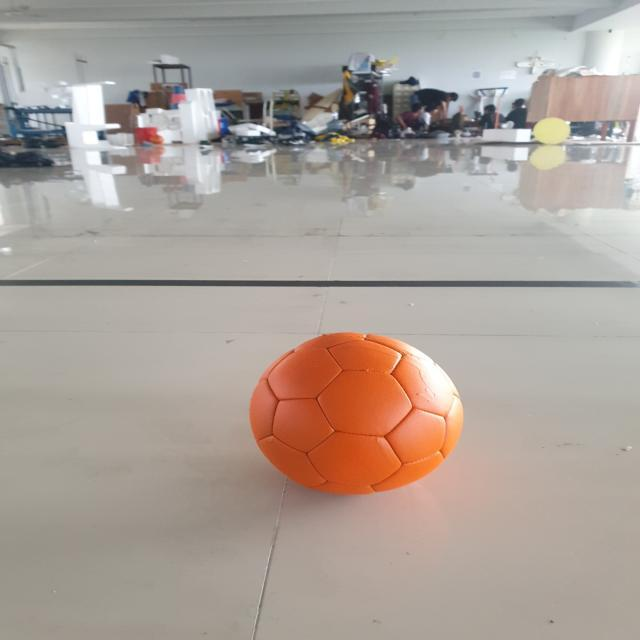bola: (244, 326, 463, 504)
